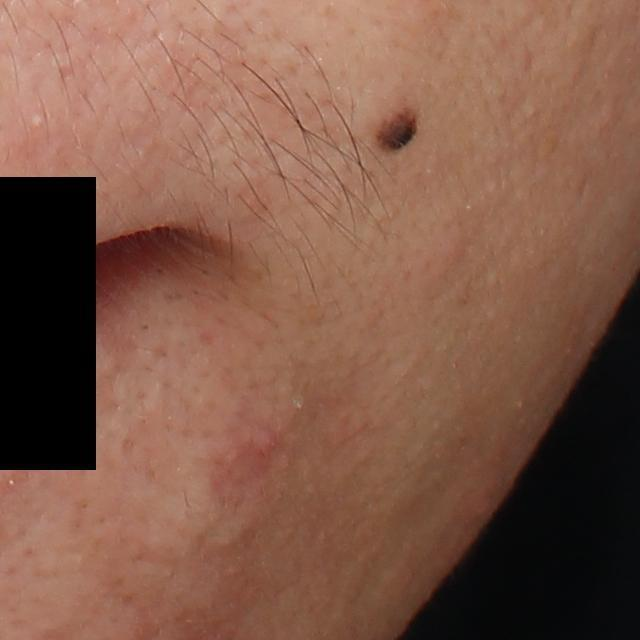comedo: (31, 115, 46, 132)
nevus: (379, 107, 423, 157)
papule: (254, 428, 278, 458)
